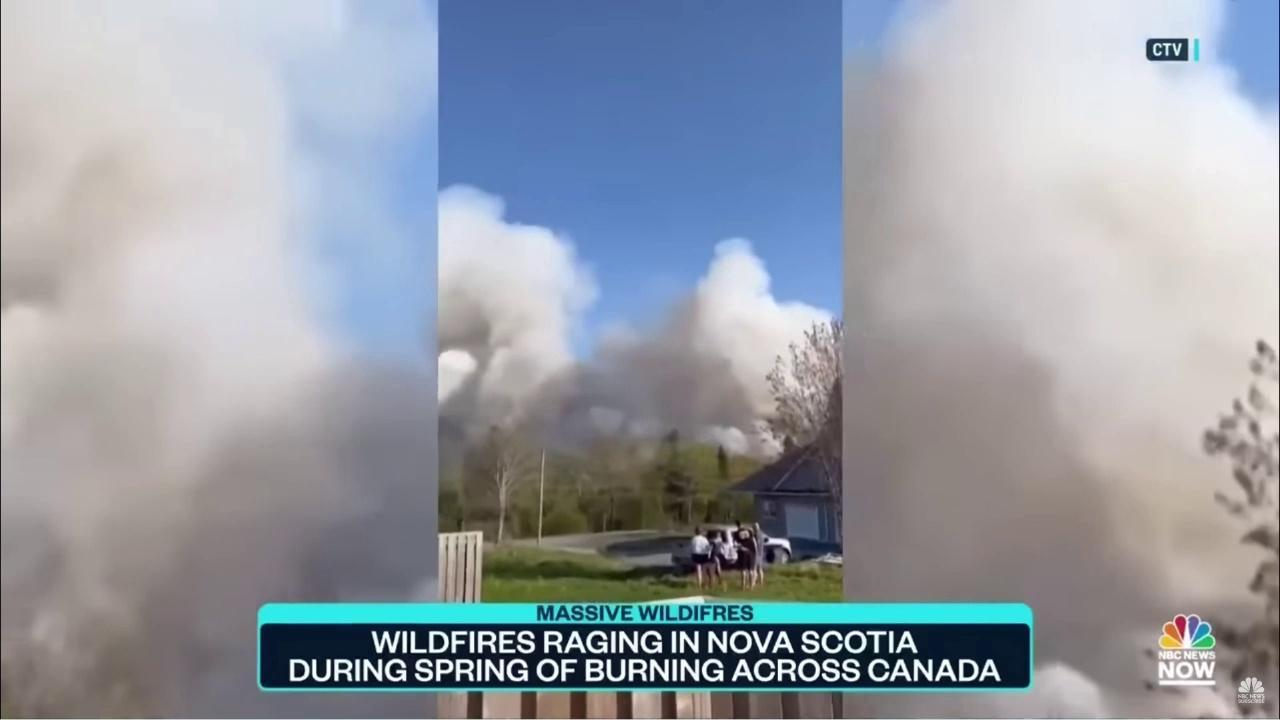smoke: (438, 179, 842, 470)
